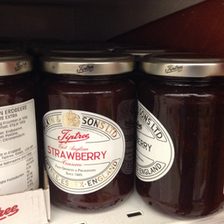jam: (41, 54, 137, 213), (136, 53, 224, 220), (1, 53, 43, 194)
